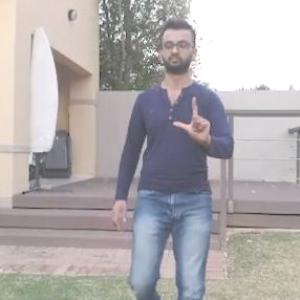land_hand: (166, 91, 215, 152)
